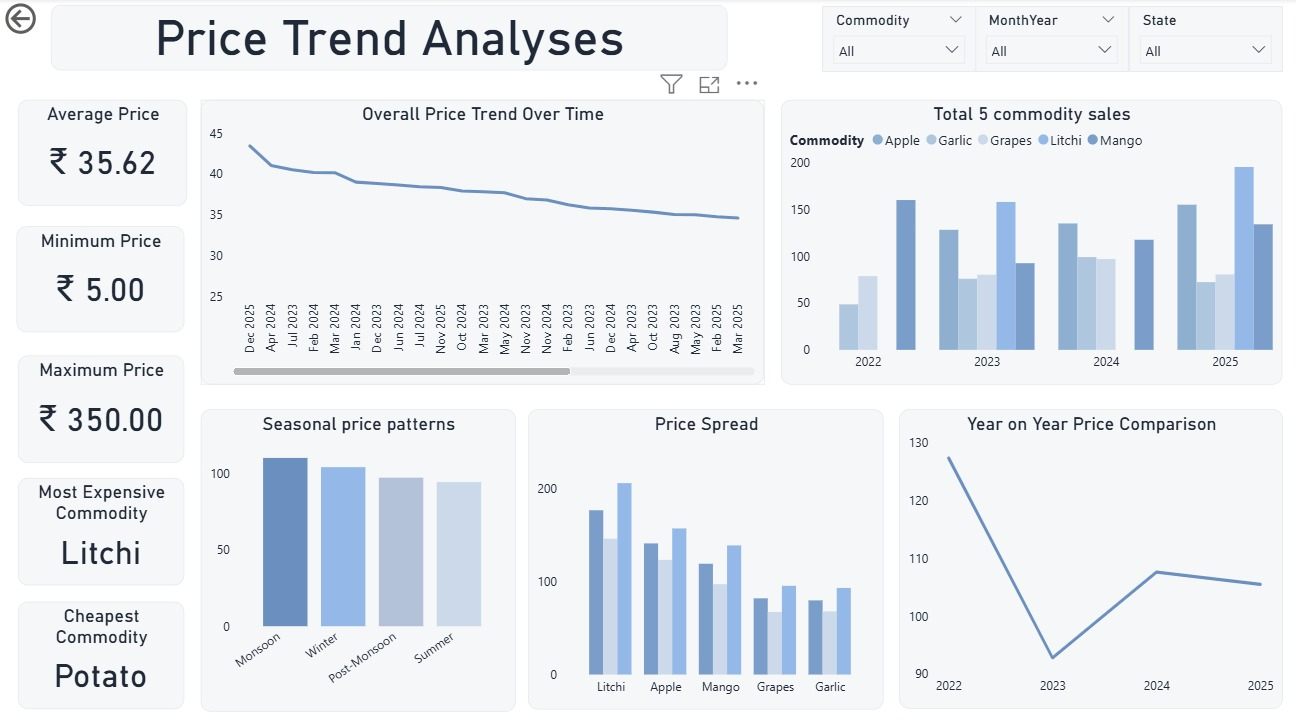

This screenshot's page, from the dashboard's own definition file:
{"tool":"powerbi","page":{"name":"Page 1","canvas":[1280,720],"ordinal":0},"visuals":[{"type":"lineChart","title":"Overall Price Trend Over Time ","fields":{"Category":["Sheet1.MonthYear"],"Y":["Avg(Sheet1.MODAL_PRICE_PER KG)"]},"box":[198.3,100,556.7,281.7],"z":0},{"type":"clusteredColumnChart","title":"Total 5 commodity sales","fields":{"Category":["Sheet1.Year"],"Y":["Avg(Sheet1.MODAL_PRICE_PER KG)"],"Series":["Sheet1.Commodity"]},"box":[771.7,100,495,281.7],"z":1000},{"type":"actionButton","box":[0,0,100,40],"z":2000},{"type":"clusteredColumnChart","title":"Seasonal price patterns ","fields":{"Category":["Sheet1.Season"],"Y":["Avg(Sheet1.MODAL_PRICE_PER KG)"]},"box":[198.3,406.1,311,298.8],"z":3000},{"type":"lineChart","title":"Year on Year Price Comparison","fields":{"Category":["Sheet1.Year"],"Y":["Avg(Sheet1.MODAL_PRICE_PER KG)"]},"box":[888.3,406.1,379,296.1],"z":4000},{"type":"textbox","title":" Price Trend Analyses","box":[50,6.7,668.3,65],"z":5000},{"type":"card","title":"Minimum Price","fields":{"Values":["Min(Sheet1.MIN_PRICE_PER_KG)"]},"box":[16.1,225.6,166,104.8],"z":6000},{"type":"clusteredColumnChart","title":"Price Spread","fields":{"Y":["Avg(Sheet1.MODAL_PRICE_PER KG)","Avg(Sheet1.MIN_PRICE_PER_KG)","Avg(Sheet1.MAX_PRICE_PER_KG2)"],"Category":["Sheet1.Commodity"]},"box":[522.2,406.2,351.4,296.6],"z":7000},{"type":"slicer","fields":{"Values":["Sheet1.State"]},"box":[1115,8.3,151.7,65],"z":8000},{"type":"slicer","fields":{"Values":["Sheet1.MonthYear"]},"box":[963.3,8.3,151.7,65],"z":9000},{"type":"slicer","fields":{"Values":["Sheet1.Commodity"]},"box":[811.7,8.3,151.7,65],"z":10000},{"type":"card","title":"Average Price","fields":{"Values":["Sheet1.Avg Modal Price"]},"box":[17.7,99.9,167.6,104.8],"z":11000},{"type":"card","title":"Most Expensive Commodity","fields":{"Values":["Sheet1.Most Expensive Commodity"]},"box":[17.7,473.9,164.4,106.4],"z":12000},{"type":"card","title":"Cheapest Commodity","fields":{"Values":["Sheet1.Cheapest Commodity"]},"box":[17.7,596.3,164.4,106.4],"z":13000},{"type":"card","title":"Maximum Price","fields":{"Values":["Sheet1.Highest Price"]},"box":[17.7,353.2,164.4,105.9],"z":14000}]}

Visuals, with their boxes in screenshot pixels (x1, y1, x2, y2), scaled from the page's 1280x720 canvas onto the 1296x721 screenshot:
"Overall Price Trend Over Time " lineChart: {"left": 201, "top": 100, "right": 764, "bottom": 382}
"Total 5 commodity sales" clusteredColumnChart: {"left": 781, "top": 100, "right": 1283, "bottom": 382}
actionButton: {"left": 0, "top": 0, "right": 101, "bottom": 40}
"Seasonal price patterns " clusteredColumnChart: {"left": 201, "top": 407, "right": 516, "bottom": 706}
"Year on Year Price Comparison" lineChart: {"left": 899, "top": 407, "right": 1283, "bottom": 703}
" Price Trend Analyses" textbox: {"left": 51, "top": 7, "right": 727, "bottom": 72}
"Minimum Price" card: {"left": 16, "top": 226, "right": 184, "bottom": 331}
"Price Spread" clusteredColumnChart: {"left": 529, "top": 407, "right": 885, "bottom": 704}
slicer - Sheet1.State: {"left": 1129, "top": 8, "right": 1283, "bottom": 73}
slicer - Sheet1.MonthYear: {"left": 975, "top": 8, "right": 1129, "bottom": 73}
slicer - Sheet1.Commodity: {"left": 822, "top": 8, "right": 975, "bottom": 73}
"Average Price" card: {"left": 18, "top": 100, "right": 188, "bottom": 205}
"Most Expensive Commodity" card: {"left": 18, "top": 475, "right": 184, "bottom": 581}
"Cheapest Commodity" card: {"left": 18, "top": 597, "right": 184, "bottom": 704}
"Maximum Price" card: {"left": 18, "top": 354, "right": 184, "bottom": 460}
